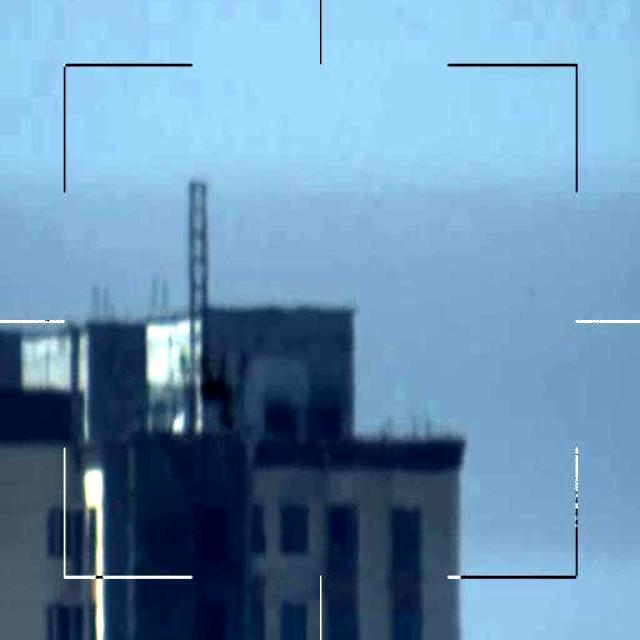bird: (189, 355, 255, 435)
